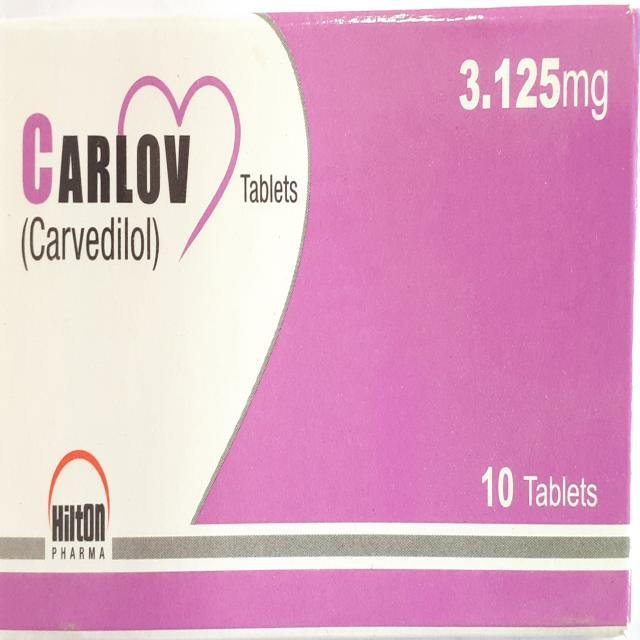drug-name: (21, 112, 198, 205)
